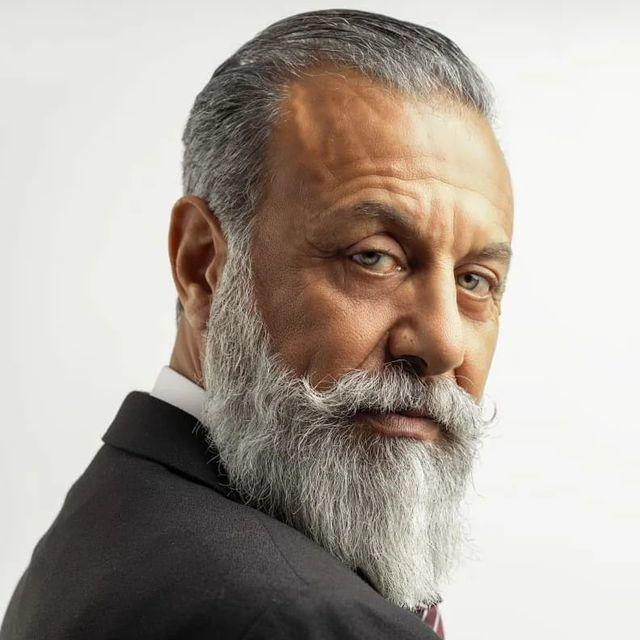crows_feet: (300, 238, 340, 270), (486, 283, 502, 321)
forehead: (343, 162, 429, 198), (432, 170, 484, 198)
frown_line: (442, 206, 460, 264)
gummy_smile: (352, 320, 388, 374)
